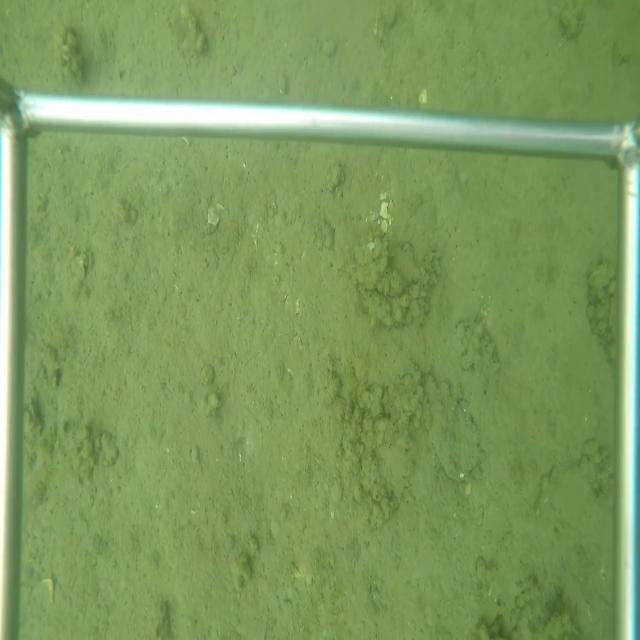Oyster-Indeterminate: (421, 370, 484, 487)
